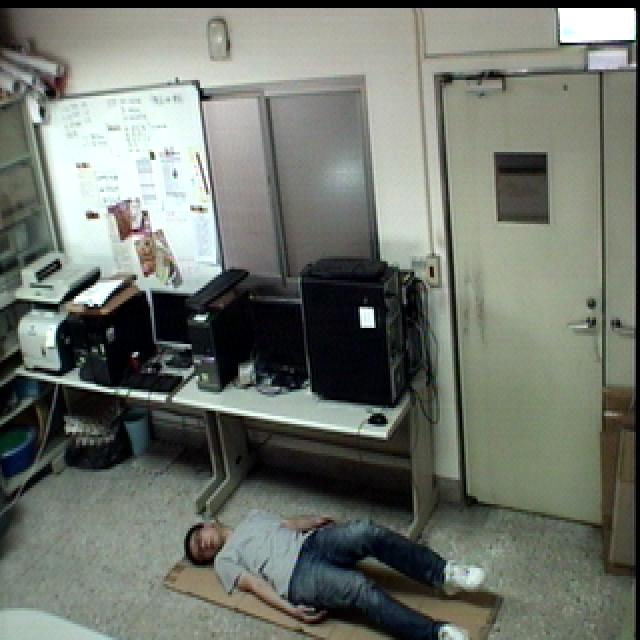lie: (178, 491, 497, 640)
